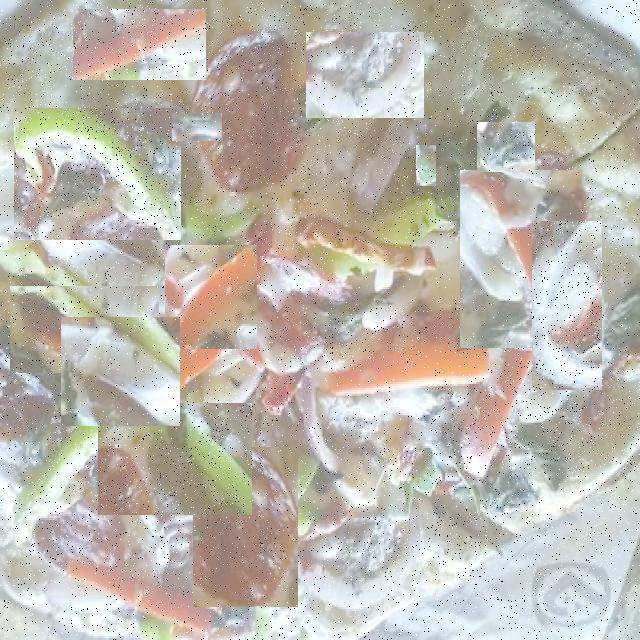Basil: (433, 405, 507, 542), (477, 122, 535, 172), (602, 283, 640, 347), (163, 361, 187, 442), (197, 328, 219, 392), (172, 113, 222, 141)
Green Pepper: (14, 108, 181, 240), (98, 403, 252, 515), (10, 286, 159, 373), (263, 0, 310, 190), (416, 145, 436, 186)
Onions: (61, 317, 180, 426), (532, 221, 602, 390), (306, 32, 424, 118)
Pepperoni: (193, 447, 298, 607), (488, 360, 584, 476), (0, 206, 57, 310), (45, 67, 119, 130)
Pizza: (0, 0, 640, 640)
Red Pepper: (460, 170, 582, 348), (165, 245, 257, 349), (73, 9, 206, 80), (334, 243, 487, 299), (295, 371, 436, 412)
